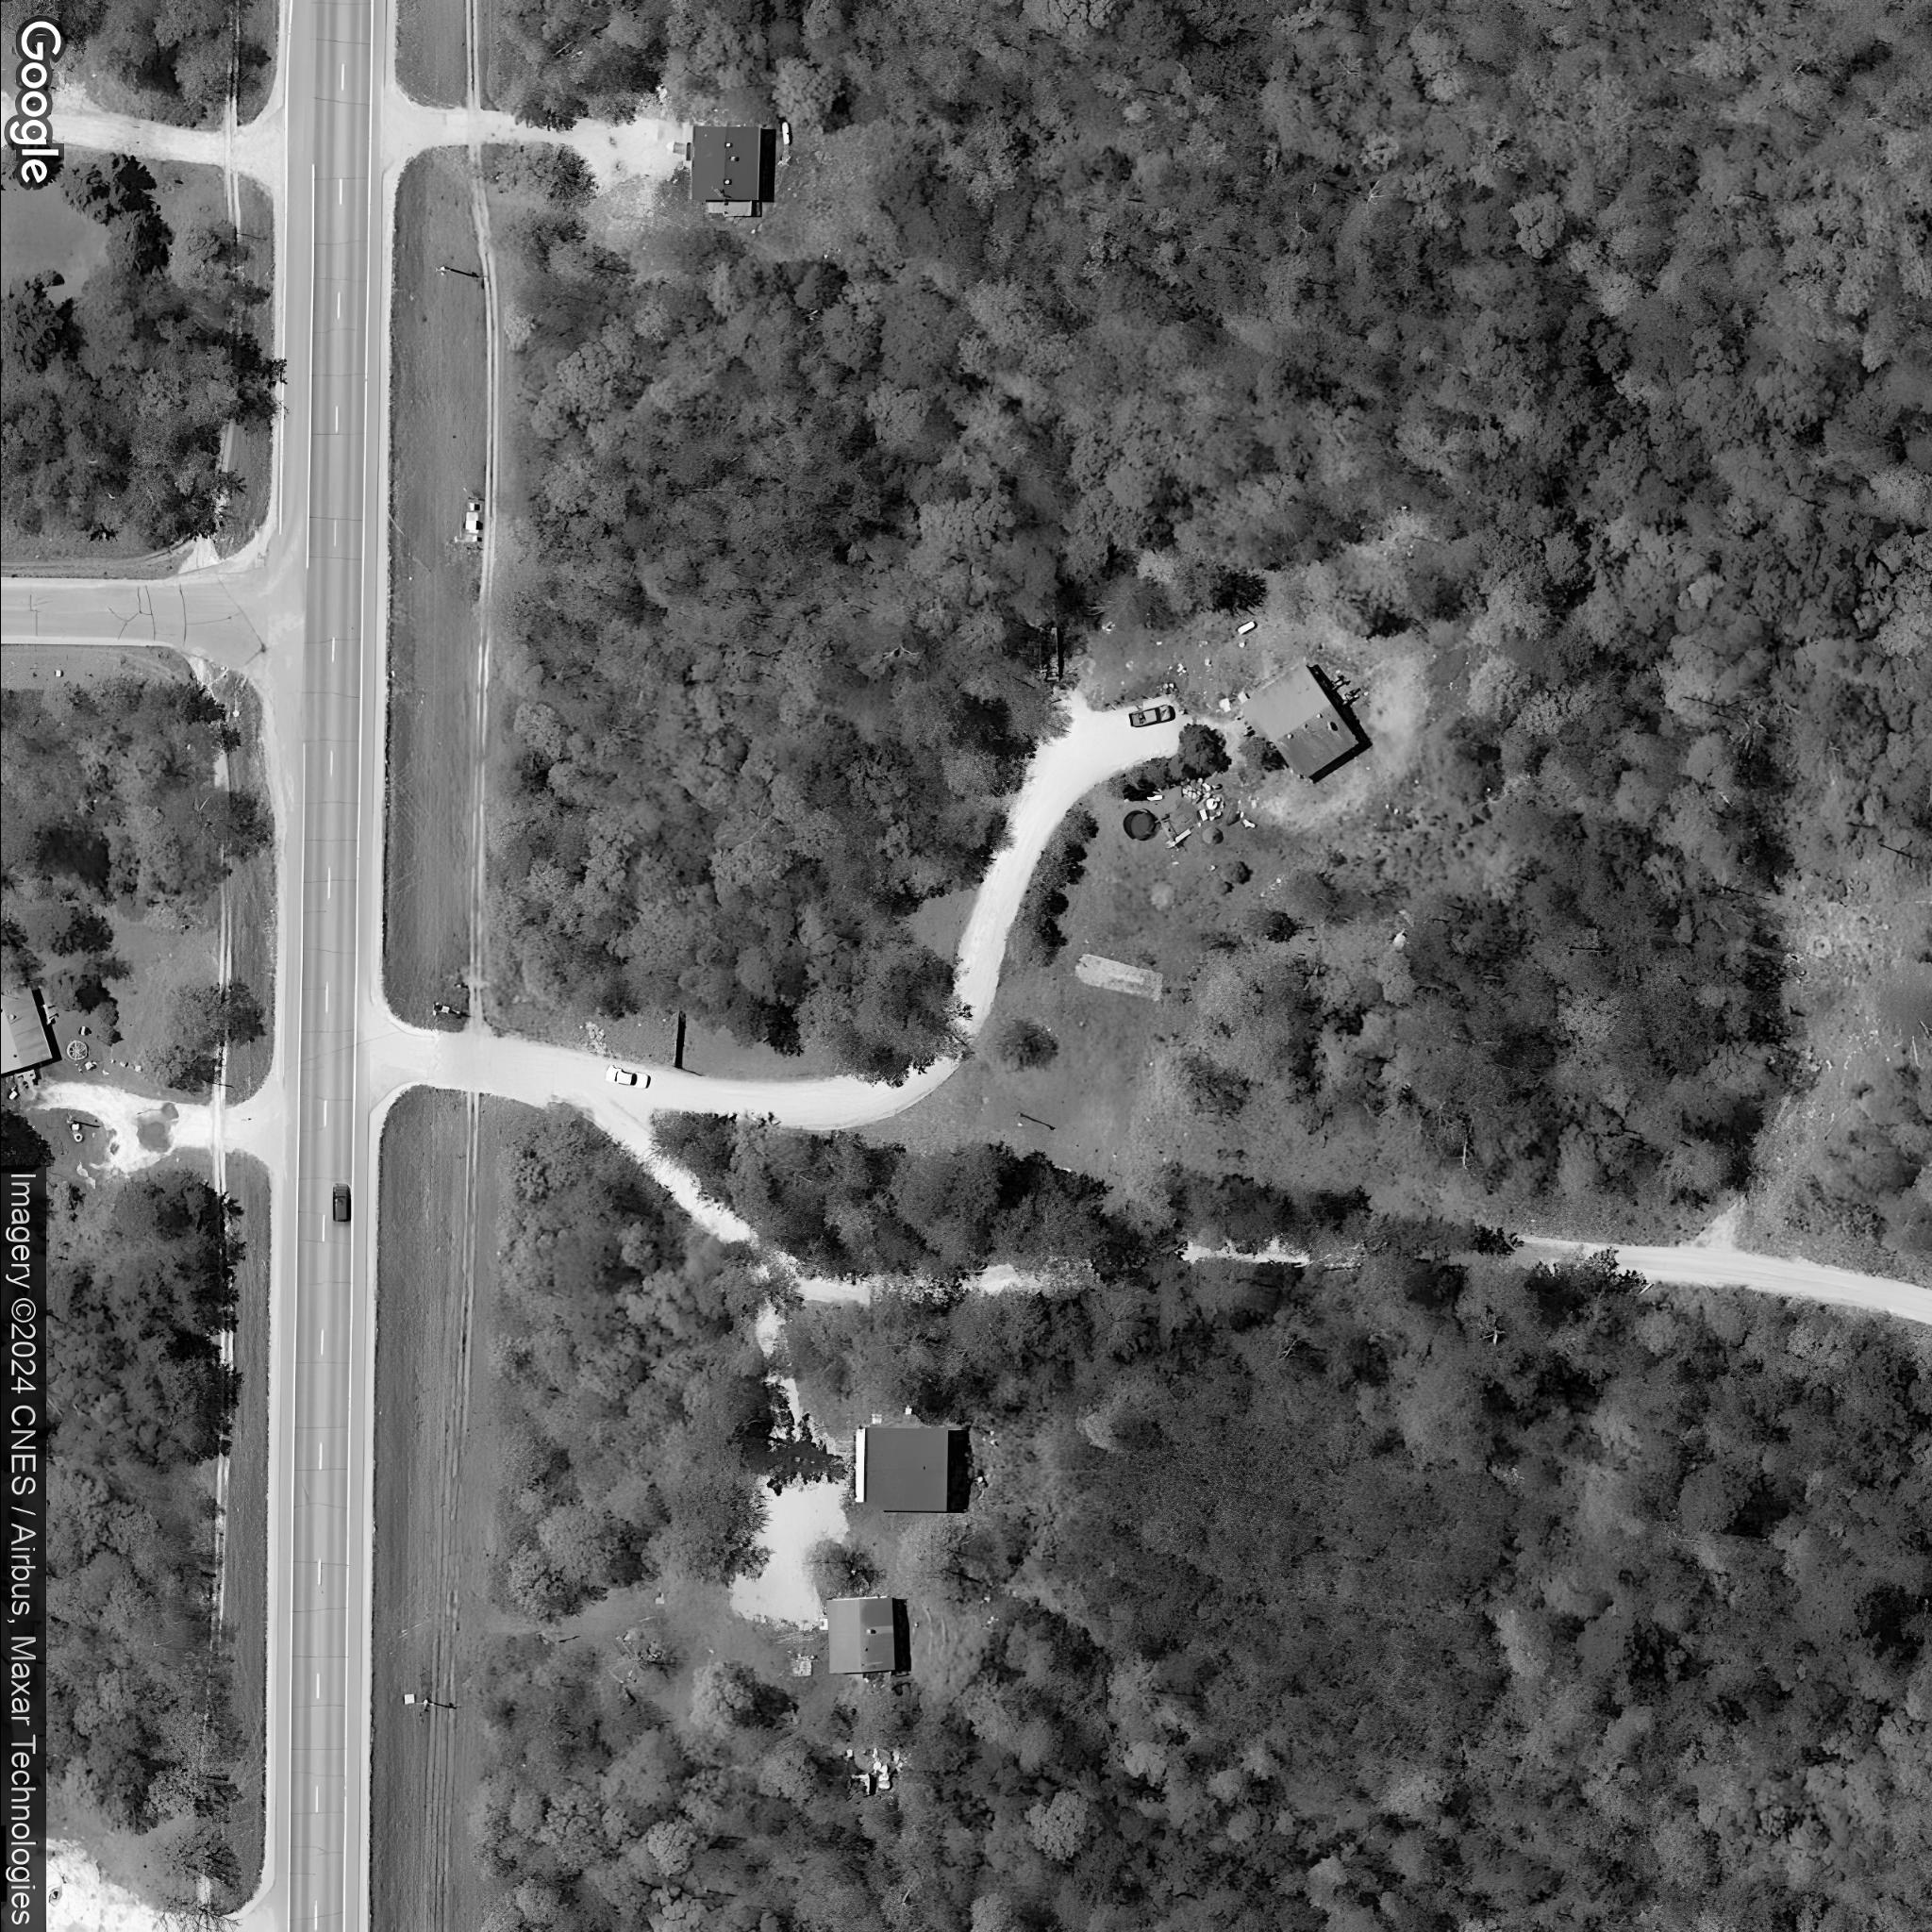Garage: (862, 1424, 950, 1513)
House: (1237, 660, 1361, 784), (823, 1594, 899, 1675), (685, 124, 763, 202), (0, 978, 53, 1077)
Propane: (777, 115, 796, 149), (1231, 617, 1260, 640)
